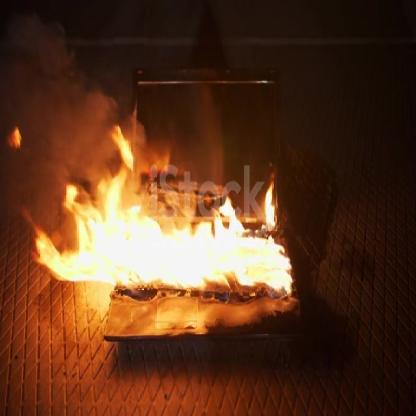fire: (35, 131, 309, 303)
smoke: (0, 19, 119, 231)
